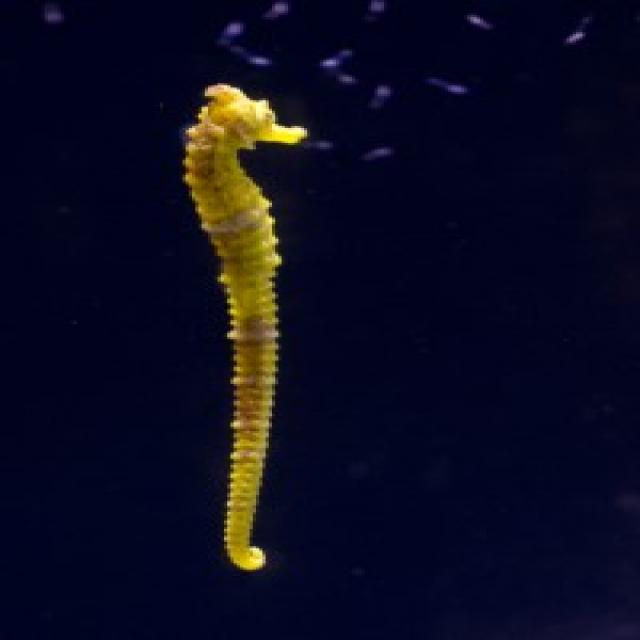Seahorse: (172, 81, 315, 579)
